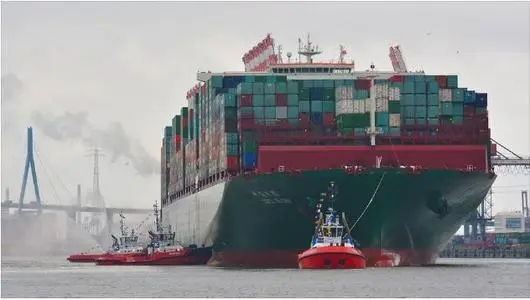Cargoship: (155, 29, 497, 273)
otherboat: (96, 202, 212, 269), (296, 182, 380, 273), (64, 209, 148, 262)
